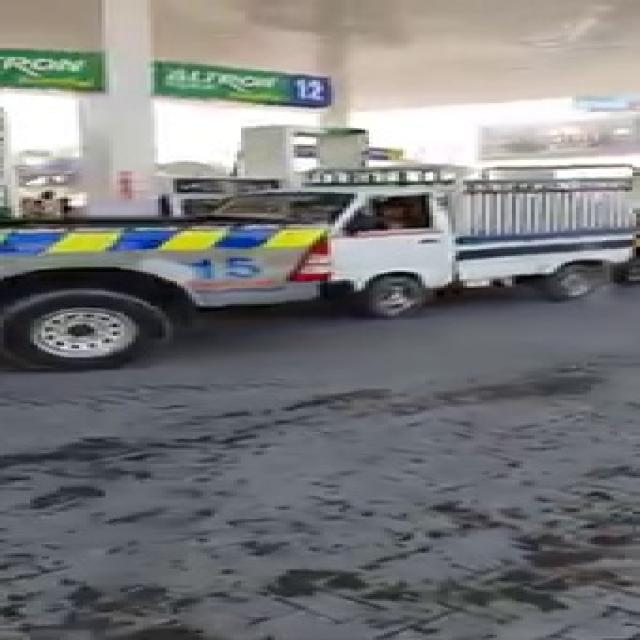police: (0, 196, 347, 347)
